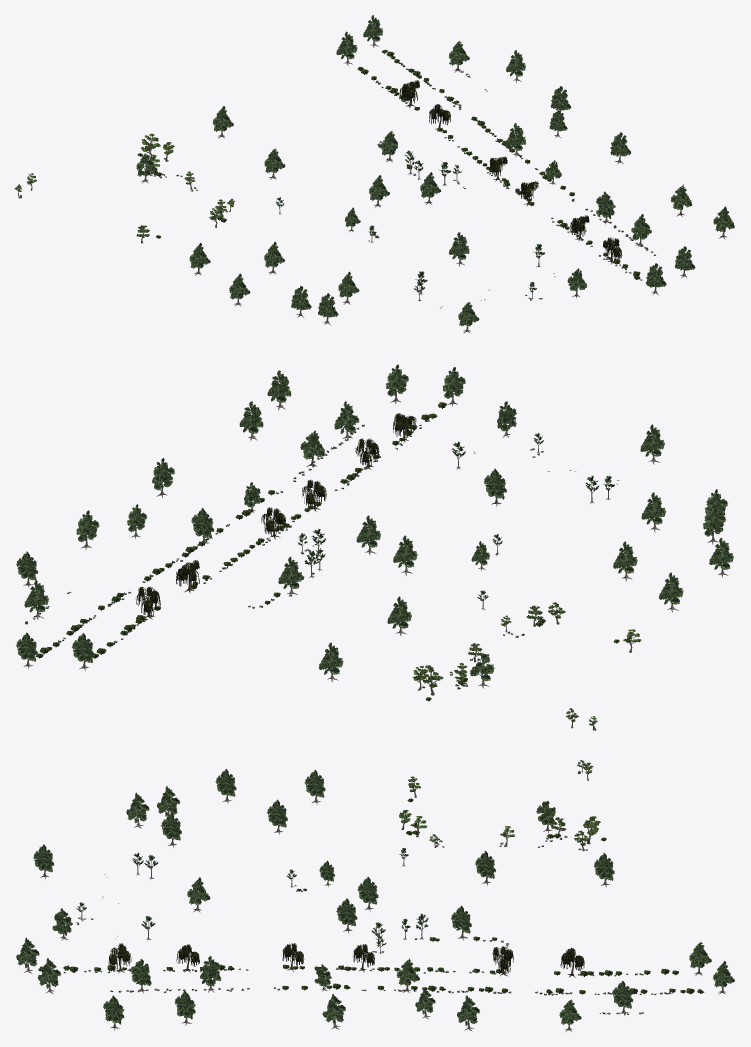
Rendered from plants.obj.
The picture shows the model from 3 angles, top to bottom: view 1: azimuth 30°, elevation 25°; view 2: azimuth 150°, elevation 25°; view 3: azimuth 270°, elevation 25°; orthographic projection. The views are drawn at different scales.
Bounding box in the file's own units: 174 × 11.14 × 201.
